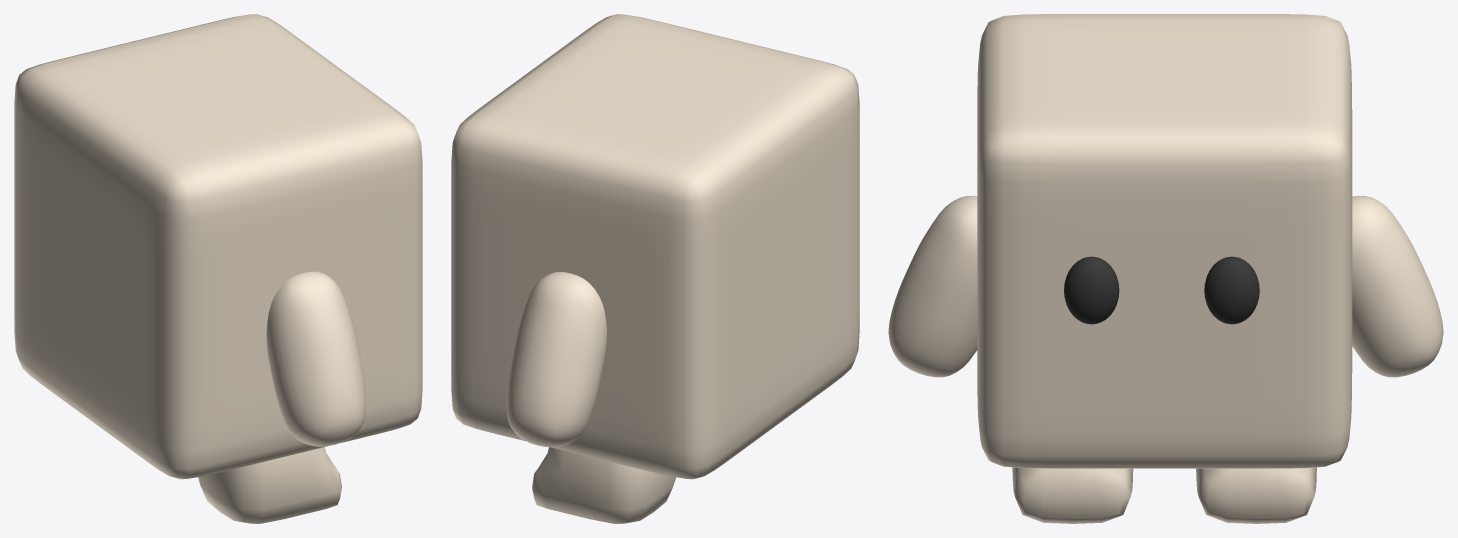
The model's file is 당당이1.glb.
3 renders of one model, left to right at view 1: azimuth 30°, elevation 25°; view 2: azimuth 150°, elevation 25°; view 3: azimuth 270°, elevation 25°, orthographic. The views are drawn at different scales.
Visible parts, largest first — view 1: Cube.003; view 2: Cube.003; view 3: Cube.003, Sphere.001, Sphere.
Part boxes in pixels (box(x1,y1,x2,y2)): Cube.003: box(14, 14, 422, 523); Cube.003: box(451, 14, 859, 523); Cube.003: box(888, 14, 1443, 523); Sphere.001: box(1204, 256, 1259, 324); Sphere: box(1064, 256, 1119, 324).
Size of the model in its own units: 1.93 by 2.5 by 2.96.
3 materials, 3 textured.
